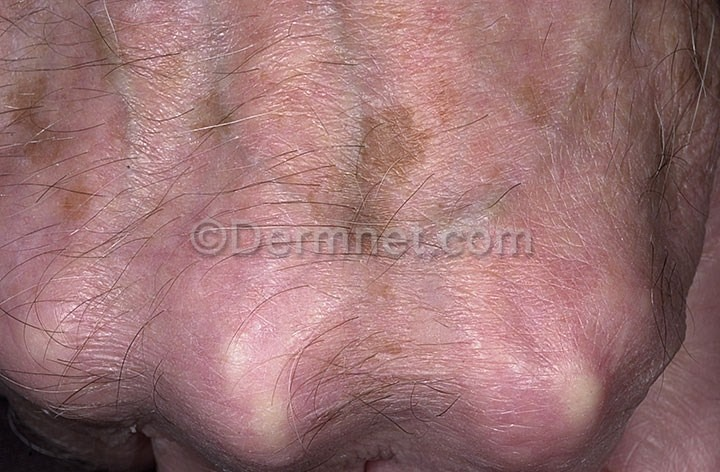Melasma: (313, 102, 475, 221), (10, 75, 122, 247)
